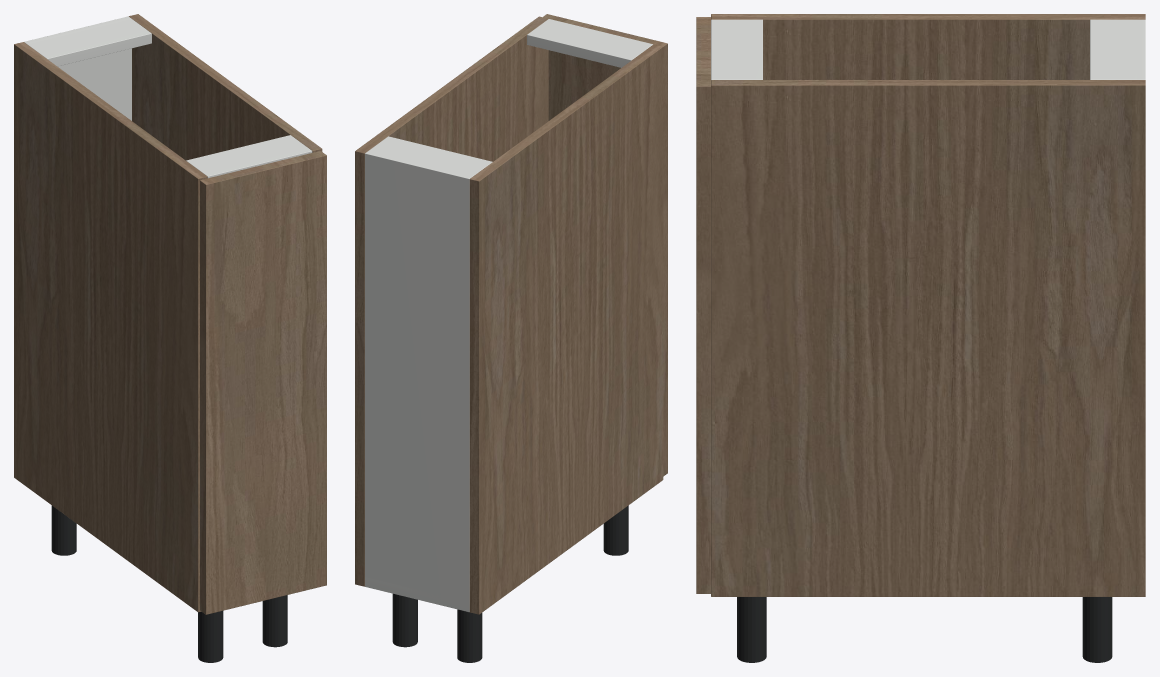
Rendered from oppein-pb-mnw-bsr09.glb.
The picture shows the model from 3 angles, left to right: view 1: azimuth 30°, elevation 25°; view 2: azimuth 150°, elevation 25°; view 3: azimuth 270°, elevation 25°; orthographic projection. The views are drawn at different scales.
Visible parts, largest first — view 1: Cabinet side, Door, Cabinet side.001, Cabinet back, Top support rail, Top support rail.001, Adjustable foot.001, Adjustable foot.003, Adjustable foot; view 2: Cabinet side, Cabinet back, Cabinet side.001, Door, Top support rail.001, Top support rail, Adjustable foot, Adjustable foot.002, Adjustable foot.001, Cabinet bottom; view 3: Cabinet side.001, Cabinet side, Door, Top support rail.001, Top support rail, Adjustable foot.002, Adjustable foot.003.
Boxes of the visible parts, x1,y1,x2,y2 form: Cabinet side: [14, 42, 207, 612]; Door: [200, 151, 326, 614]; Cabinet side.001: [129, 14, 322, 160]; Cabinet back: [24, 16, 131, 120]; Top support rail: [26, 19, 151, 66]; Top support rail.001: [186, 135, 312, 178]; Adjustable foot.001: [198, 611, 223, 662]; Adjustable foot.003: [262, 595, 287, 647]; Adjustable foot: [51, 505, 76, 555]; Cabinet side: [469, 44, 663, 614]; Cabinet back: [365, 151, 472, 612]; Cabinet side.001: [355, 16, 548, 586]; Door: [543, 14, 667, 476]; Top support rail.001: [527, 19, 652, 67]; Top support rail: [369, 136, 492, 176]; Adjustable foot: [457, 609, 482, 662]; Adjustable foot.002: [392, 593, 417, 647]; Adjustable foot.001: [603, 505, 628, 555]; Cabinet bottom: [365, 577, 466, 611]; Cabinet side.001: [711, 80, 1145, 596]; Cabinet side: [711, 14, 1145, 79]; Door: [696, 17, 710, 593]; Top support rail.001: [711, 19, 762, 79]; Top support rail: [1090, 19, 1141, 79]; Adjustable foot.002: [1082, 597, 1112, 662]; Adjustable foot.003: [737, 597, 766, 662].
Bounding box in the file's own units: 0.2286 × 0.8763 × 0.6064.
3 materials, 1 textured.
